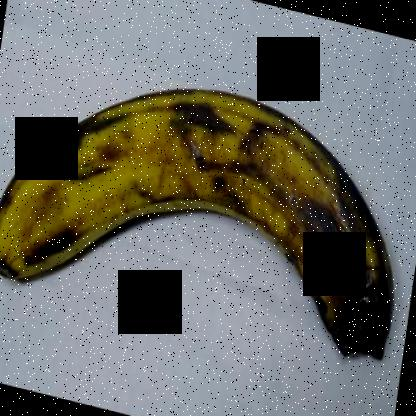overripe: (0, 62, 411, 411)
rotten: (272, 184, 415, 384)
